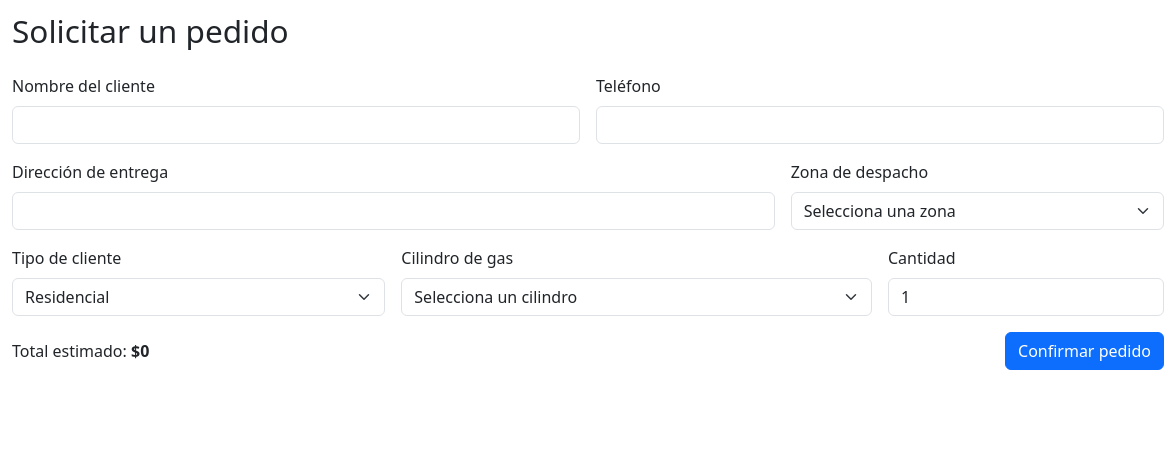
Test: FormularioNuevoPedido › muestra los errores de todos los campos obligatorios al enviar vacío
The width and height of the screenshot is (1176, 462).
Click the button "Confirmar pedido".
click(1084, 351)  # box x1=1005 y1=332 x2=1164 y2=370
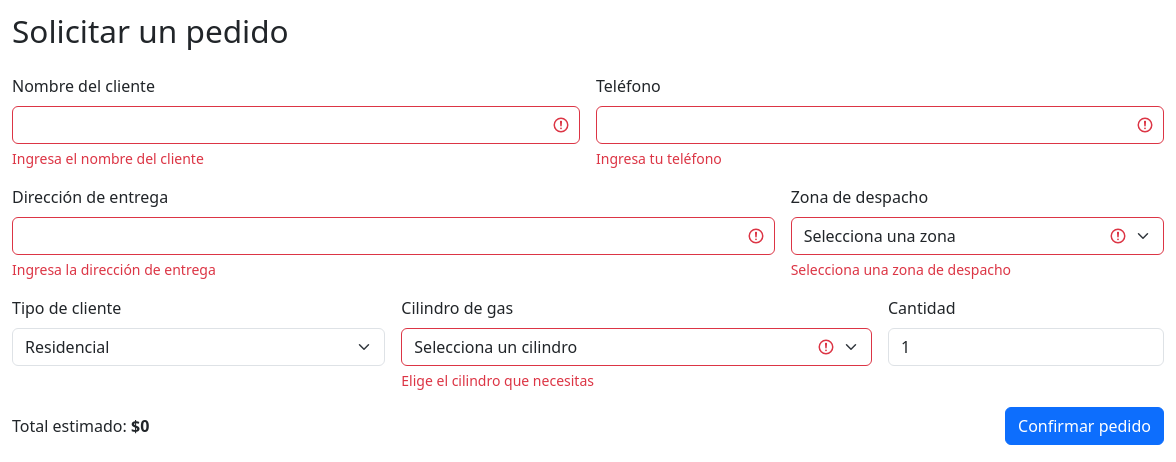
Now the text "Ingresa el nombre del cliente" is shown, box x1=12 y1=149 x2=204 y2=168
Now the text "Ingresa tu teléfono" is shown, box x1=596 y1=149 x2=722 y2=168
Now the text "Ingresa la dirección de entrega" is shown, box x1=12 y1=260 x2=216 y2=279
